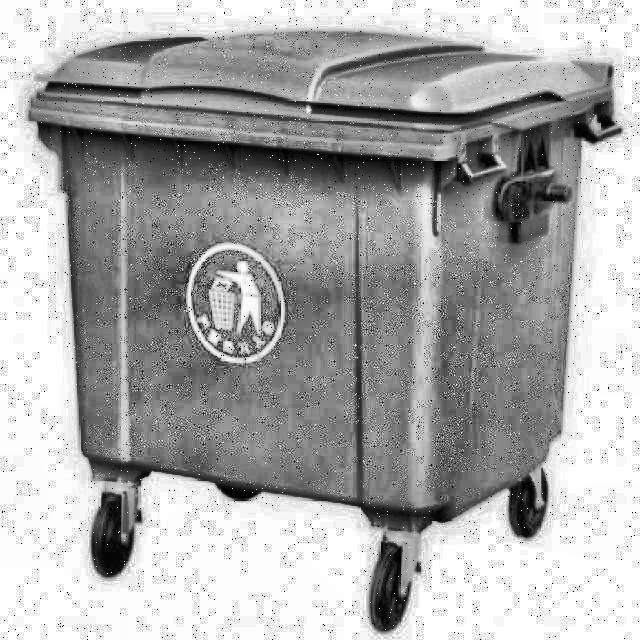Dustbin: (8, 19, 634, 638)
